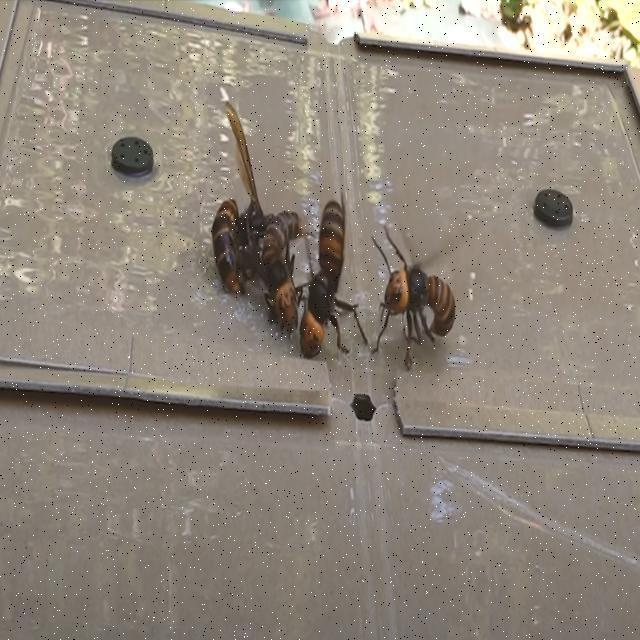Wasp: (208, 96, 300, 316), (373, 220, 468, 365), (293, 170, 359, 363)
